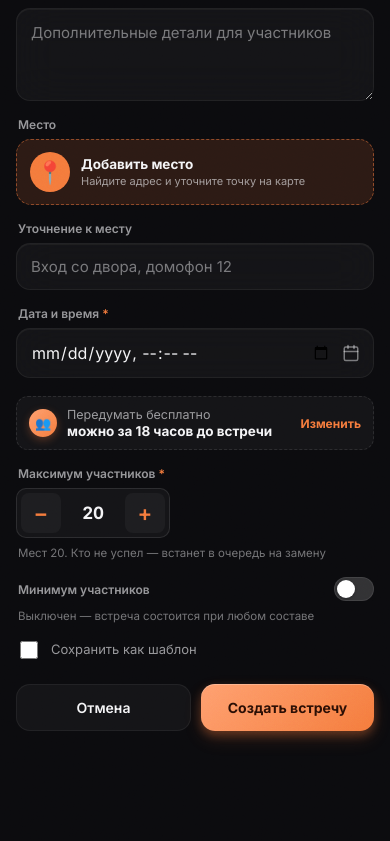
Test: CreateEventPage — максимум и минимум участников › снижение максимума ниже минимума подтягивает минимум к максимуму
This screenshot has width=390, height=841.
(page scrolled)
Click the switch named "Минимум участников". click: (354, 589)
box: [334,577,374,601]
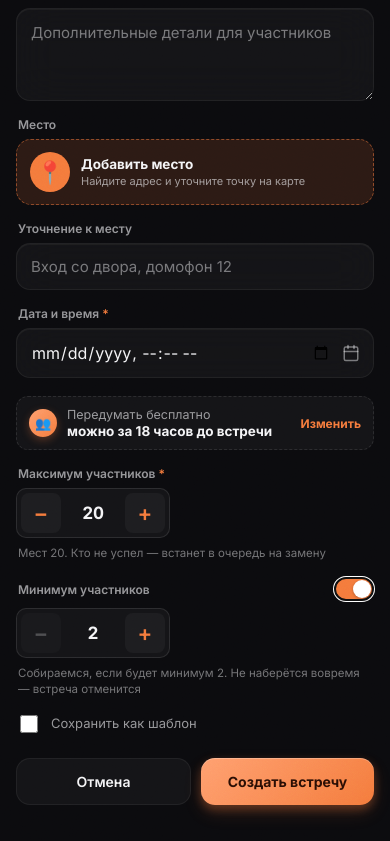
Replace the text in the field named "Значение минимума" with "8". click: (93, 633)
box: [65,623,121,643]
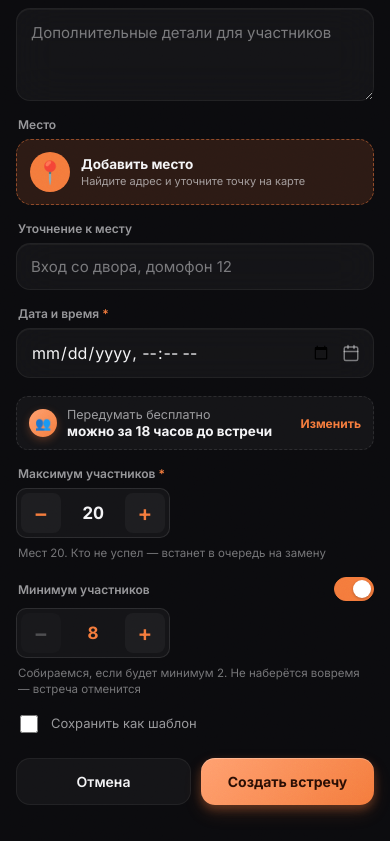
Press Tab
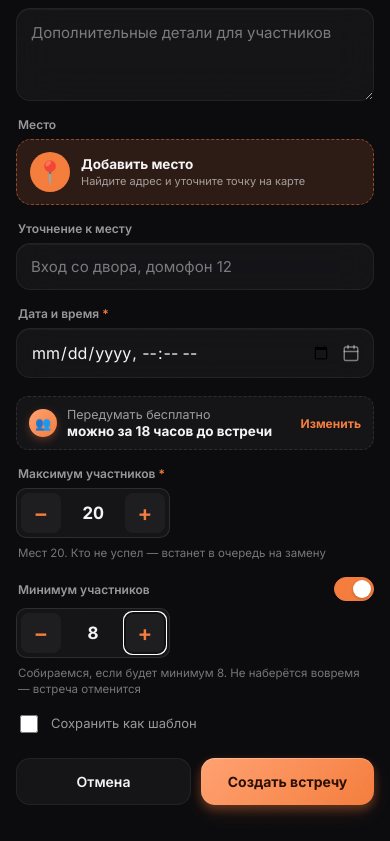
Replace the text in the field named "Максимум участников" with "5". click: (93, 513)
box: [65,503,121,523]
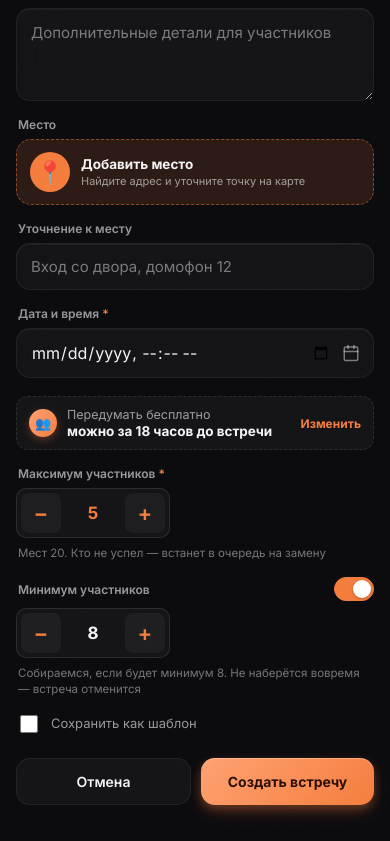
Press Tab
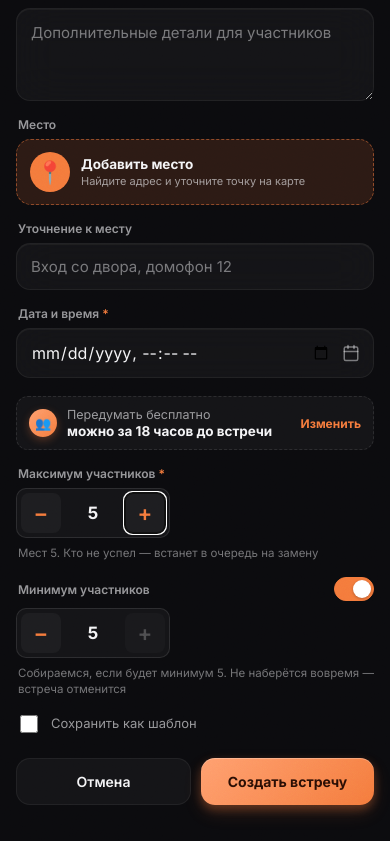
Now the field named "Значение минимума" holds "5", box [65,623,121,643]
